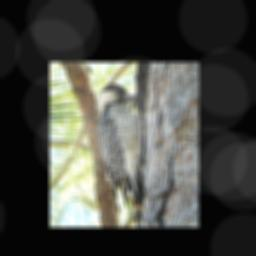Woodpecker: (97, 83, 144, 210)
